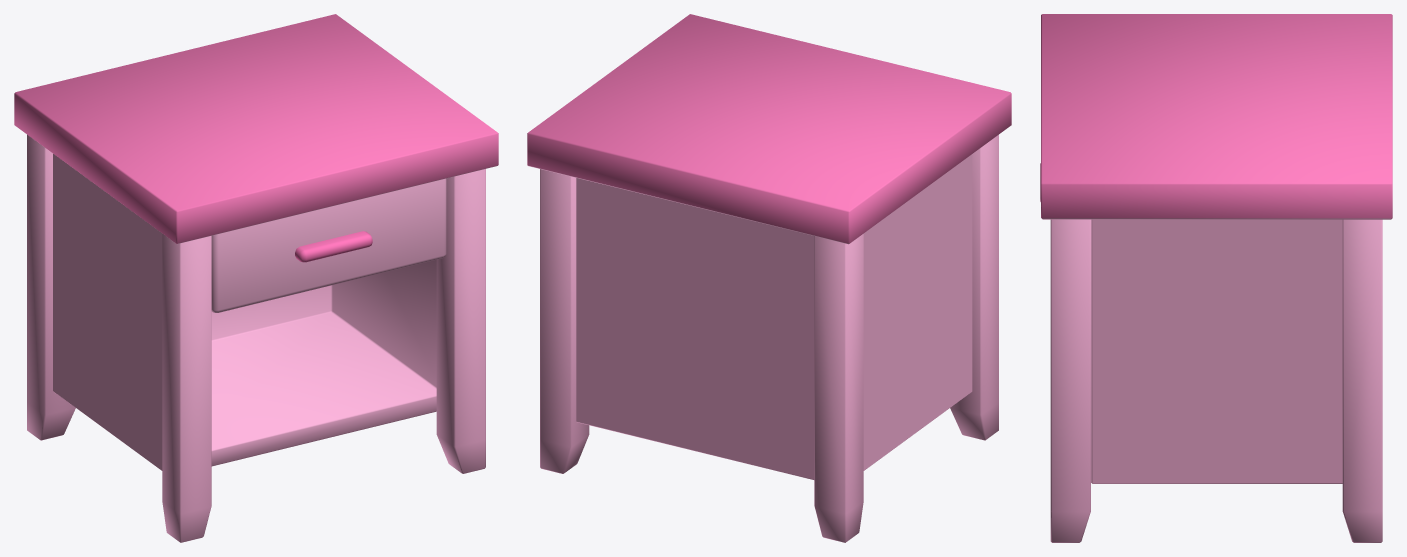
File: Side table .fbx
3 views of the same model, side by side, from view 1: azimuth 30°, elevation 25°; view 2: azimuth 150°, elevation 25°; view 3: azimuth 270°, elevation 25° (orthographic). The views are drawn at different scales.
Visible parts, largest first — view 1: wooden_end_table_wooden_end_table_mat_0.001, wooden_end_table_wooden_end_table_mat_0.003; view 2: wooden_end_table_wooden_end_table_mat_0.001; view 3: wooden_end_table_wooden_end_table_mat_0.001.
Part boxes in pixels (x1,y1,x2,y2): wooden_end_table_wooden_end_table_mat_0.001: (14,14,498,542); wooden_end_table_wooden_end_table_mat_0.003: (211,178,446,312); wooden_end_table_wooden_end_table_mat_0.001: (527,14,1011,542); wooden_end_table_wooden_end_table_mat_0.001: (1041,14,1392,542).
Bounding box in the file's own units: 80 × 80 × 70.13.
Materials: 1 (1 with a texture image).
